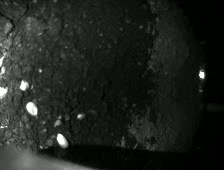corn: (56, 133, 69, 150), (25, 101, 37, 116), (76, 112, 85, 120)
